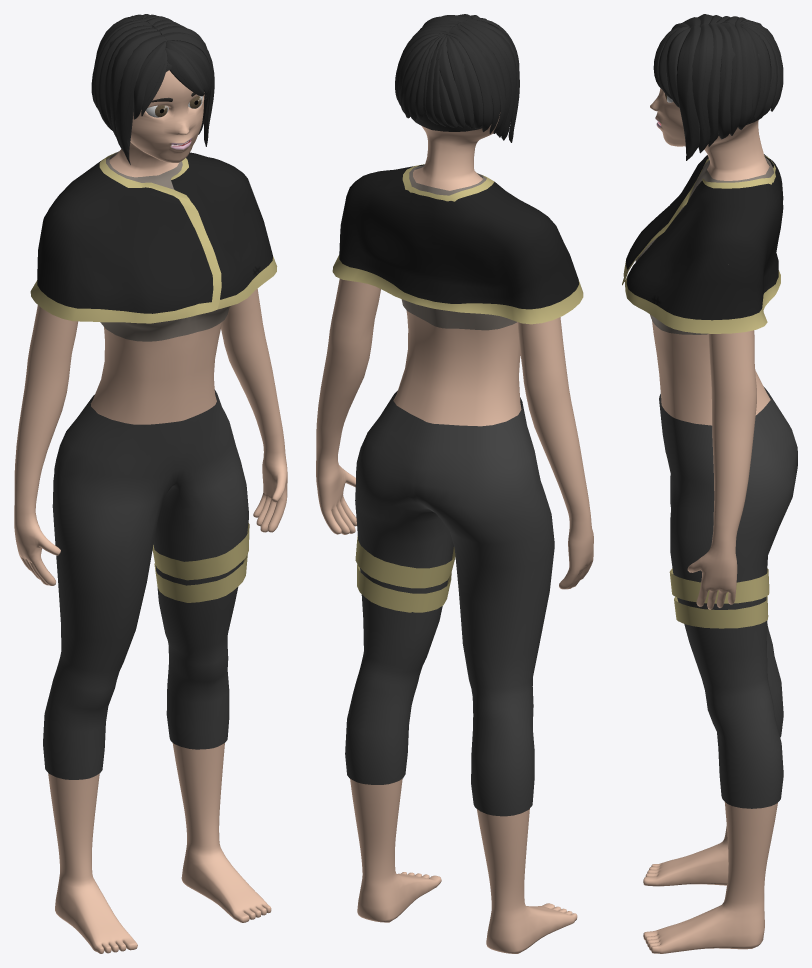
Rendered from Sarah_Shae_retopo.fbx.
3 renders of one model, left to right at view 1: azimuth 30°, elevation 25°; view 2: azimuth 150°, elevation 25°; view 3: azimuth 270°, elevation 25°, orthographic.
Parts seen in each view (by area): view 1: Cylinder.003, Cylinder, Cylinder.004, NurbsPath.016, Cylinder.002, Cylinder.005, Cylinder.006; view 2: Cylinder.003, Cylinder, Cylinder.004, NurbsPath.016, Cylinder.002, Cylinder.005, Cylinder.006; view 3: Cylinder, Cylinder.003, Cylinder.004, NurbsPath.016, Cylinder.006, Cylinder.005, Cylinder.002.
Boxes of the visible parts, box(x1,y1,x2,y2) form: Cylinder.003: box(43, 389, 248, 779); Cylinder: box(14, 70, 287, 953); Cylinder.004: box(30, 152, 277, 323); NurbsPath.016: box(91, 14, 214, 164); Cylinder.002: box(100, 151, 230, 341); Cylinder.005: box(152, 523, 249, 580); Cylinder.006: box(154, 553, 247, 602); Cylinder.003: box(345, 390, 554, 816); Cylinder: box(316, 114, 593, 953); Cylinder.004: box(332, 164, 583, 324); NurbsPath.016: box(395, 14, 519, 142); Cylinder.002: box(401, 165, 516, 330); Cylinder.005: box(355, 536, 455, 588); Cylinder.006: box(357, 564, 451, 612); Cylinder: box(643, 88, 777, 953); Cylinder.003: box(659, 386, 797, 808); Cylinder.004: box(622, 154, 783, 333); NurbsPath.016: box(653, 14, 783, 160); Cylinder.006: box(674, 596, 768, 628); Cylinder.005: box(669, 568, 769, 603); Cylinder.002: box(635, 157, 773, 334).
Bounding box in the file's own units: 127 × 400 × 71.64.
